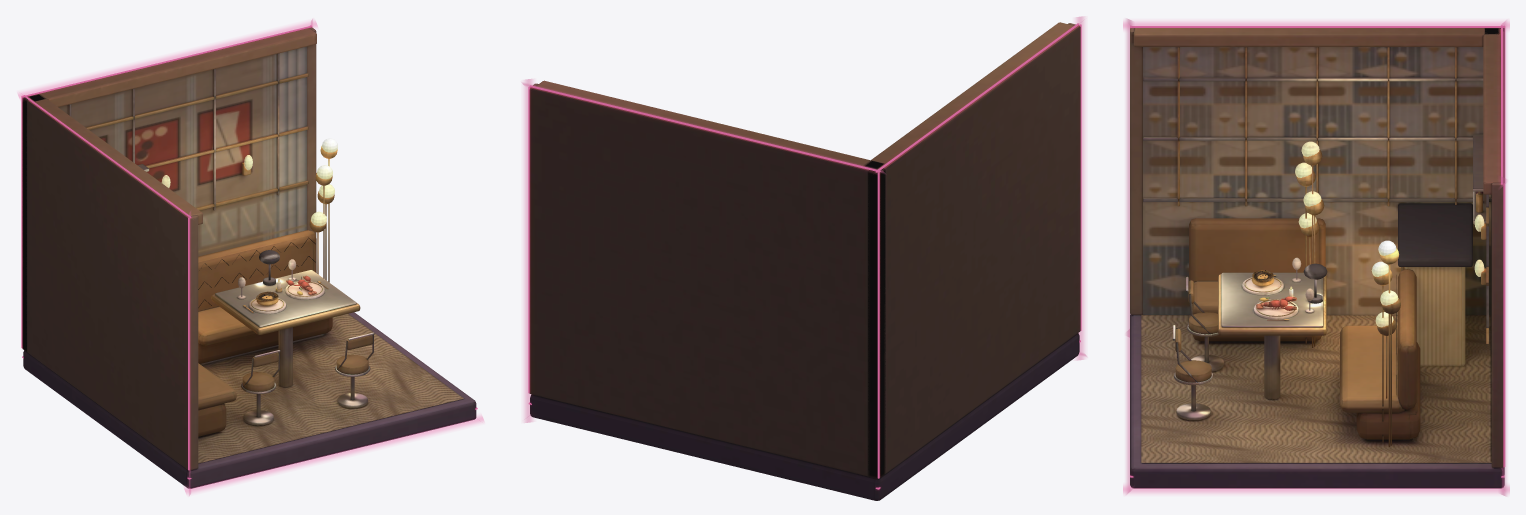
The model's file is barbarella.glb.
3 views of the same model, side by side, from view 1: azimuth 30°, elevation 25°; view 2: azimuth 150°, elevation 25°; view 3: azimuth 270°, elevation 25° (orthographic). The views are drawn at different scales.
Visible parts, largest first — view 1: Barbarella • Canary Wharf • baked interior, Feathered silhouette glow 2, Feathered silhouette glow 5, Back upper luminous rim; view 2: Barbarella • Canary Wharf • baked interior, Feathered silhouette glow 4, Feathered silhouette glow 1, Back upper luminous rim, Wall luminous edge.001, Feathered silhouette glow 5, Left upper luminous rim; view 3: Barbarella • Canary Wharf • baked interior, Feathered silhouette glow 3, Feathered silhouette glow 0, Feathered silhouette glow 4, Feathered silhouette glow 1, Wall luminous edge.002, Left upper luminous rim, Feathered silhouette glow 5, Feathered silhouette glow 2.
Boxes of the visible parts, x1,y1,x2,y2 form: Barbarella • Canary Wharf • baked interior: [22, 27, 476, 488]; Feathered silhouette glow 2: [184, 415, 484, 494]; Feathered silhouette glow 5: [17, 20, 317, 99]; Back upper luminous rim: [23, 25, 312, 97]; Barbarella • Canary Wharf • baked interior: [529, 22, 1080, 500]; Feathered silhouette glow 4: [524, 79, 533, 422]; Feathered silhouette glow 1: [1075, 16, 1084, 360]; Back upper luminous rim: [529, 85, 880, 172]; Wall luminous edge.001: [877, 172, 879, 478]; Feathered silhouette glow 5: [522, 82, 885, 173]; Left upper luminous rim: [875, 23, 1079, 172]; Barbarella • Canary Wharf • baked interior: [1130, 28, 1504, 488]; Feathered silhouette glow 3: [1123, 485, 1509, 493]; Feathered silhouette glow 0: [1123, 21, 1509, 29]; Feathered silhouette glow 4: [1500, 176, 1506, 495]; Feathered silhouette glow 1: [1126, 18, 1132, 336]; Wall luminous edge.002: [1503, 183, 1505, 467]; Left upper luminous rim: [1130, 26, 1504, 27]; Feathered silhouette glow 5: [1500, 20, 1506, 187]; Feathered silhouette glow 2: [1126, 329, 1132, 494].
Bounding box in the file's own units: 2.09 × 1.89 × 2.09.
Materials: 3 (2 with a texture image).
